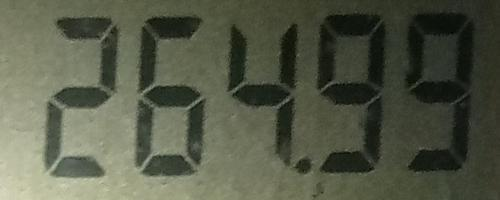.: (293, 155, 313, 177)
